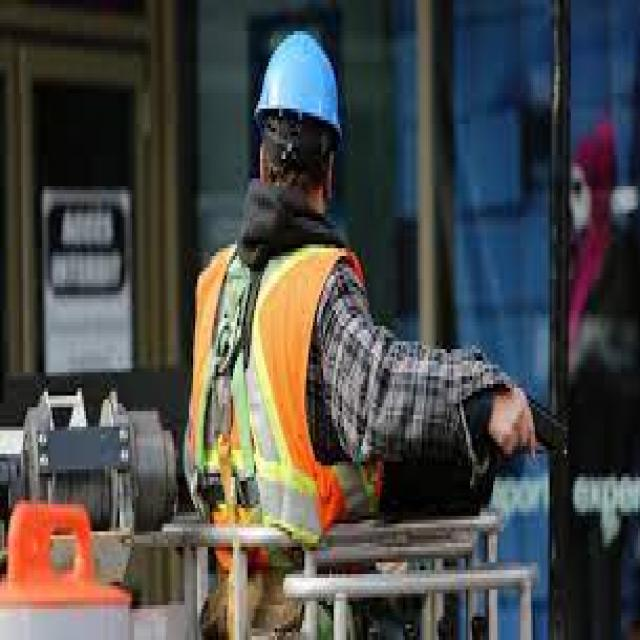Reflective-Jacket: (180, 229, 374, 636)
Safety-Helmet: (245, 23, 352, 152)
